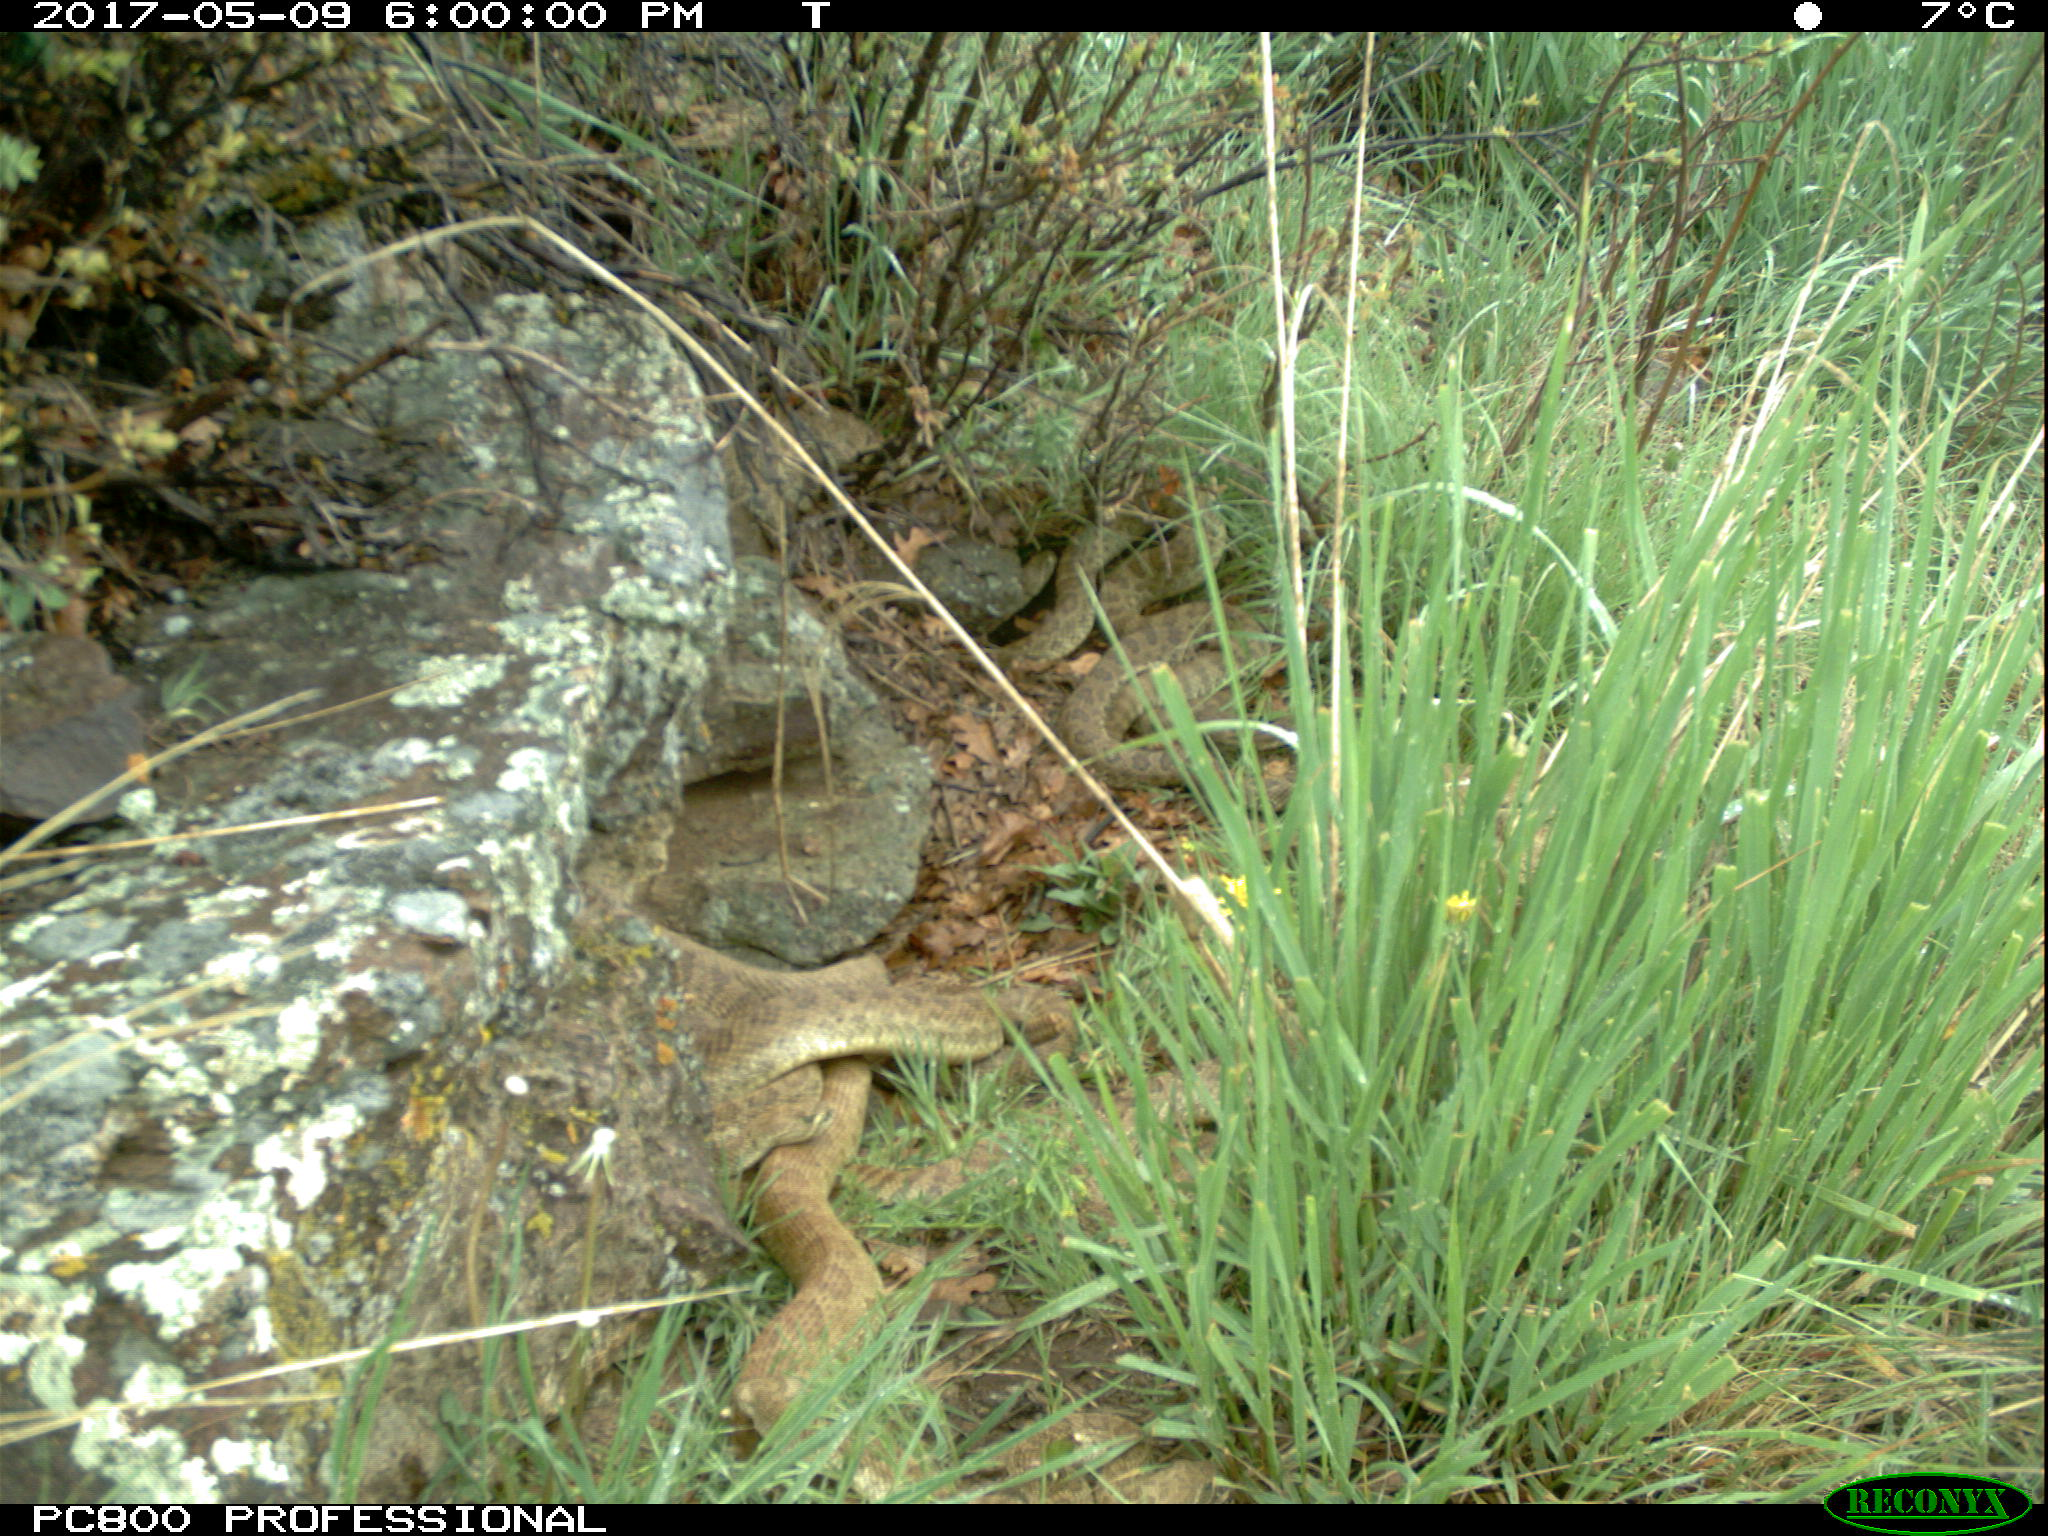snake: (745, 1050, 918, 1489), (672, 945, 1085, 1087), (1005, 490, 1238, 674), (1061, 600, 1297, 781)
